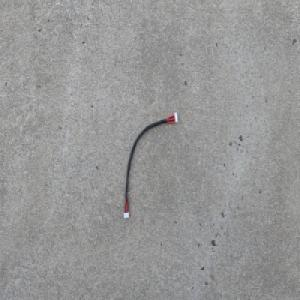Wire: (121, 110, 179, 220)
